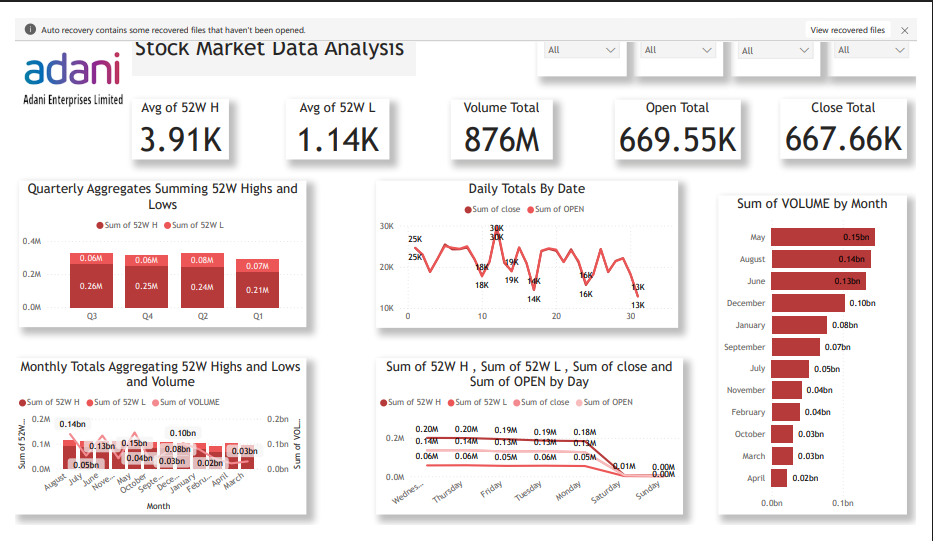

Layout of this report page (visuals, bound fields, positions):
{"tool":"powerbi","page":{"name":"Page 1","canvas":[1280,720],"ordinal":0},"visuals":[{"type":"slicer","fields":{"Values":["ADANI ENTERPRISES LIMITED.Day"]},"box":[742.1,0,126.4,82.7],"z":0},{"type":"slicer","fields":{"Values":["ADANI ENTERPRISES LIMITED.Month"]},"box":[879.3,0,126.4,82.7],"z":1000},{"type":"slicer","fields":{"Values":["ADANI ENTERPRISES LIMITED.Quarter"]},"box":[1017.4,1,126.4,81.7],"z":2000},{"type":"slicer","fields":{"Values":["ADANI ENTERPRISES LIMITED.Year"]},"box":[1153.6,0,126.4,82.7],"z":3000},{"type":"card","title":"Avg of 52W H","fields":{"Values":["Avg(ADANI ENTERPRISES LIMITED.52W H )"]},"box":[166.3,114.8,138.1,86.6],"z":4000},{"type":"card","title":"Avg of 52W L","fields":{"Values":["Avg(ADANI ENTERPRISES LIMITED.52W L )"]},"box":[385.2,114.8,146.9,86.6],"z":5000},{"type":"card","title":"Close Total","fields":{"Values":["Sum(ADANI ENTERPRISES LIMITED.close )"]},"box":[1087.4,114.8,179.9,85.6],"z":6000},{"type":"card","title":"Open Total","fields":{"Values":["Sum(ADANI ENTERPRISES LIMITED.OPEN )"]},"box":[852,115.7,179,85.6],"z":7000},{"type":"card","title":"Volume Total","fields":{"Values":["Sum(ADANI ENTERPRISES LIMITED.VOLUME )"]},"box":[618.6,115.7,145.9,85.6],"z":8000},{"type":"columnChart","title":"Quarterly Aggregates Summing 52W Highs and Lows","fields":{"Y":["Sum(ADANI ENTERPRISES LIMITED.52W H )","Sum(ADANI ENTERPRISES LIMITED.52W L )"],"Category":["ADANI ENTERPRISES LIMITED.Quarter"]},"box":[5.8,230.5,408.5,208.1],"z":9000},{"type":"lineStackedColumnComboChart","title":"Monthly Totals Aggregating 52W Highs and Lows and Volume","fields":{"Y":["Sum(ADANI ENTERPRISES LIMITED.52W H )","Sum(ADANI ENTERPRISES LIMITED.52W L )"],"Category":["ADANI ENTERPRISES LIMITED.Month"],"Y2":["Sum(ADANI ENTERPRISES LIMITED.VOLUME)"]},"box":[0,483.4,414.3,221.8],"z":10000},{"type":"lineChart","title":"Daily Totals By Date","fields":{"Y":["Sum(ADANI ENTERPRISES LIMITED.close )","Sum(ADANI ENTERPRISES LIMITED.OPEN )"],"Category":["ADANI ENTERPRISES LIMITED.Date .Variation.Date Hierarchy.Day"]},"box":[512.6,230.5,429.9,209.1],"z":11000},{"type":"lineChart","fields":{"Y":["Sum(ADANI ENTERPRISES LIMITED.52W H )","Sum(ADANI ENTERPRISES LIMITED.52W L )","Sum(ADANI ENTERPRISES LIMITED.close )","Sum(ADANI ENTERPRISES LIMITED.OPEN )"],"Category":["ADANI ENTERPRISES LIMITED.Day"]},"box":[512.6,483.4,436.7,221.8],"z":12000},{"type":"clusteredBarChart","fields":{"Category":["ADANI ENTERPRISES LIMITED.Month"],"Y":["Sum(ADANI ENTERPRISES LIMITED.VOLUME)"]},"box":[998.9,251.9,268.4,453.3],"z":13000},{"type":"image","box":[0,0,166.3,157.6],"z":14000},{"type":"textbox","box":[166.3,18.5,402.7,64.2],"z":15000}]}

Visuals, with their boxes on the page's 1280x720 design canvas (x1, y1, x2, y2). These are canvas units, not pixel positions in the 933x541 screenshot, which may show the page scaled, cropped or inside an application window:
slicer - ADANI ENTERPRISES LIMITED.Day: <bbox>742, 0, 868, 83</bbox>
slicer - ADANI ENTERPRISES LIMITED.Month: <bbox>879, 0, 1006, 83</bbox>
slicer - ADANI ENTERPRISES LIMITED.Quarter: <bbox>1017, 1, 1144, 83</bbox>
slicer - ADANI ENTERPRISES LIMITED.Year: <bbox>1154, 0, 1280, 83</bbox>
"Avg of 52W H" card: <bbox>166, 115, 304, 201</bbox>
"Avg of 52W L" card: <bbox>385, 115, 532, 201</bbox>
"Close Total" card: <bbox>1087, 115, 1267, 200</bbox>
"Open Total" card: <bbox>852, 116, 1031, 201</bbox>
"Volume Total" card: <bbox>619, 116, 764, 201</bbox>
"Quarterly Aggregates Summing 52W Highs and Lows" columnChart: <bbox>6, 230, 414, 439</bbox>
"Monthly Totals Aggregating 52W Highs and Lows and Volume" lineStackedColumnComboChart: <bbox>0, 483, 414, 705</bbox>
"Daily Totals By Date" lineChart: <bbox>513, 230, 942, 440</bbox>
lineChart - Sum(ADANI ENTERPRISES LIMITED.52W H ) x Sum(ADANI ENTERPRISES LIMITED.52W L ): <bbox>513, 483, 949, 705</bbox>
clusteredBarChart - ADANI ENTERPRISES LIMITED.Month x Sum(ADANI ENTERPRISES LIMITED.VOLUME): <bbox>999, 252, 1267, 705</bbox>
image: <bbox>0, 0, 166, 158</bbox>
textbox: <bbox>166, 18, 569, 83</bbox>
